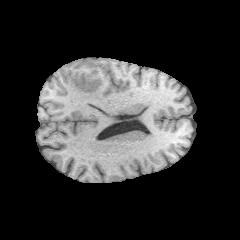glioma: (69, 68, 108, 104)
